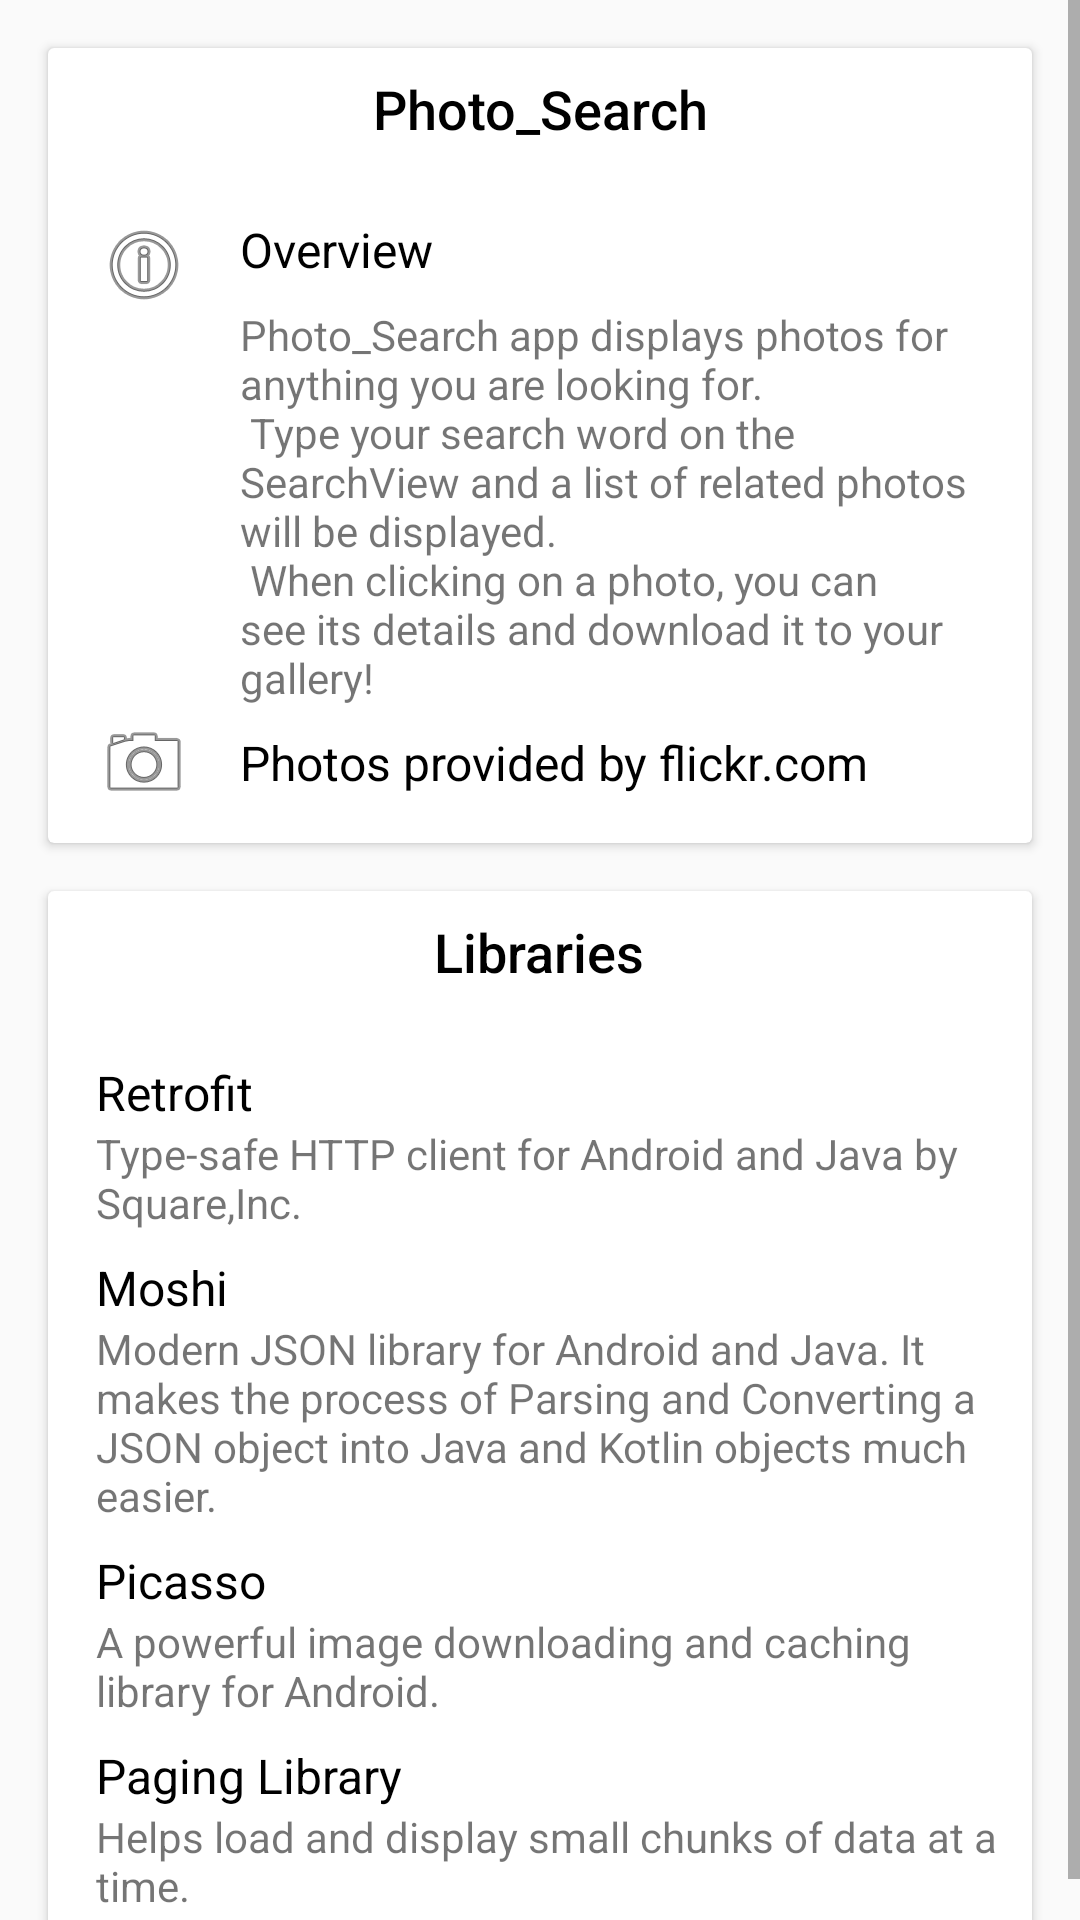

Where to tap for icons on this 1080px×1920px app screen, as point (x, y):
camera: point (144, 761)
info details: point (144, 265)
